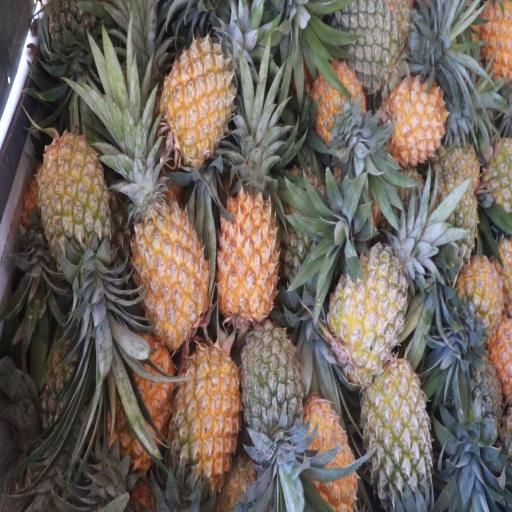------------------------------: (361, 366, 430, 511), (329, 248, 403, 378)
Pineapple - v8 v1: (132, 184, 207, 352), (40, 134, 107, 278), (162, 42, 236, 167), (177, 347, 242, 486), (218, 187, 279, 334), (113, 341, 175, 462), (299, 404, 358, 510), (389, 78, 447, 163), (311, 65, 367, 152), (453, 251, 504, 344)
